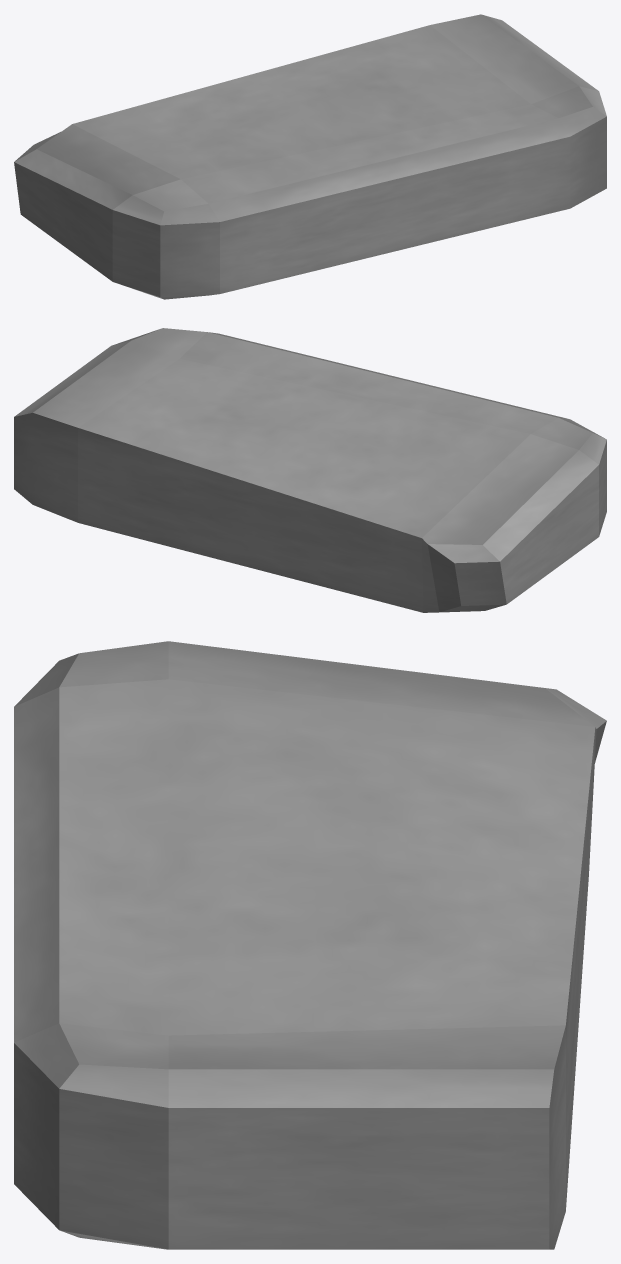
Rendered from SteppingStone-6.glb.
3 renders of one model, top to bottom at view 1: azimuth 30°, elevation 25°; view 2: azimuth 150°, elevation 25°; view 3: azimuth 270°, elevation 25°, orthographic. The views are drawn at different scales.
Parts seen in each view (by area): view 1: SteppingStone-6-col; view 2: SteppingStone-6-col; view 3: SteppingStone-6-col.
Boxes of the visible parts, x1,y1,x2,y2 form: SteppingStone-6-col: [14, 14, 606, 299]; SteppingStone-6-col: [14, 328, 606, 612]; SteppingStone-6-col: [14, 641, 606, 1249].
Bounding box in the file's own units: 0.3357 × 0.066 × 0.1804.
Materials: 1 (1 with a texture image).
